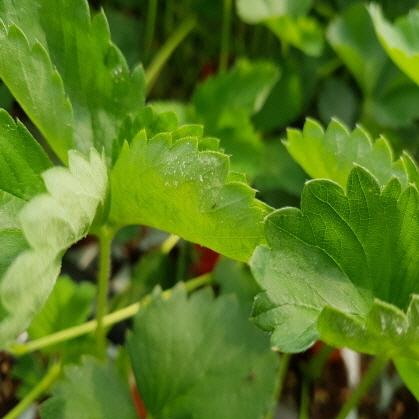Powdery Mildew Leaf: (246, 160, 418, 360), (105, 103, 280, 262), (0, 0, 147, 169)
